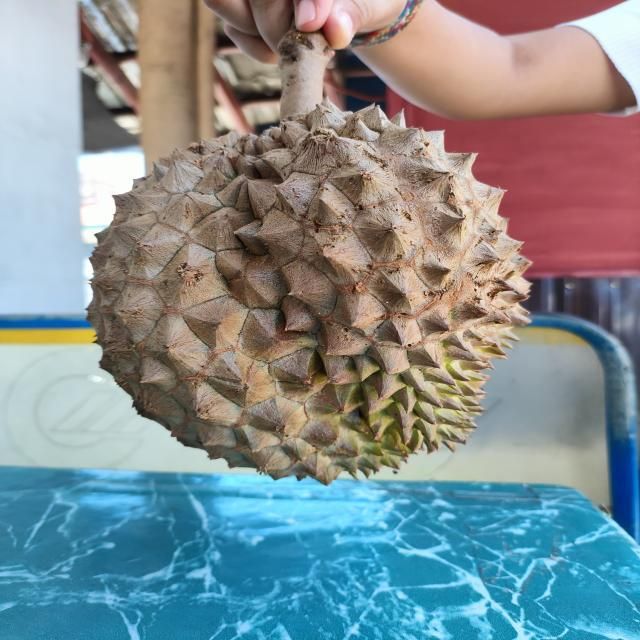mature: (85, 107, 530, 489)
